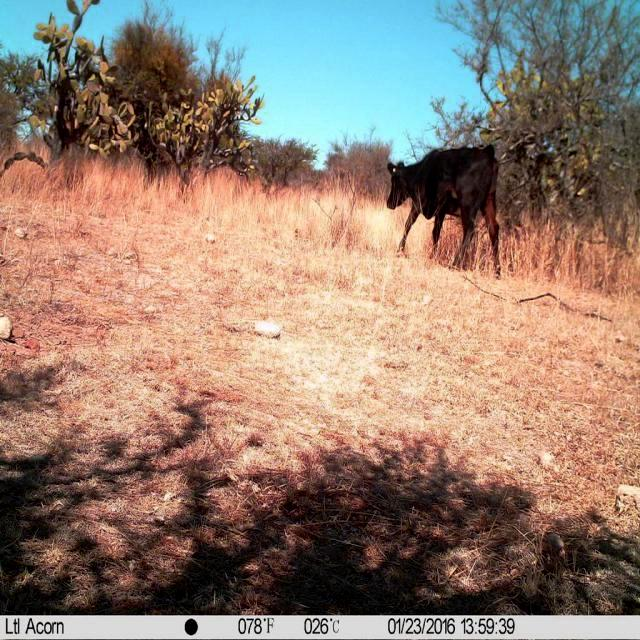COW: (388, 145, 500, 274)
